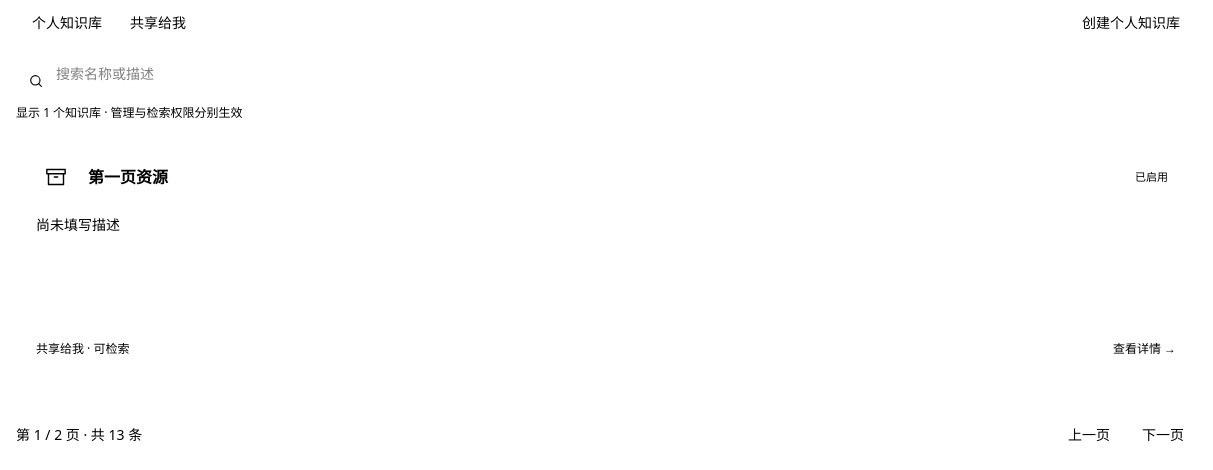
Scenario: knowledge-bases uses server pagination and resets search to page one
The width and height of the screenshot is (1213, 470).
Expected: the heading "第一页资源" is shown, [88,166,168,188]
Expected: the text "第 1 / 2 页 · 共 13 条" is shown, [16,425,142,445]
Step 1. Click the button "下一页" → (1163, 435), box [1130,417,1196,453]
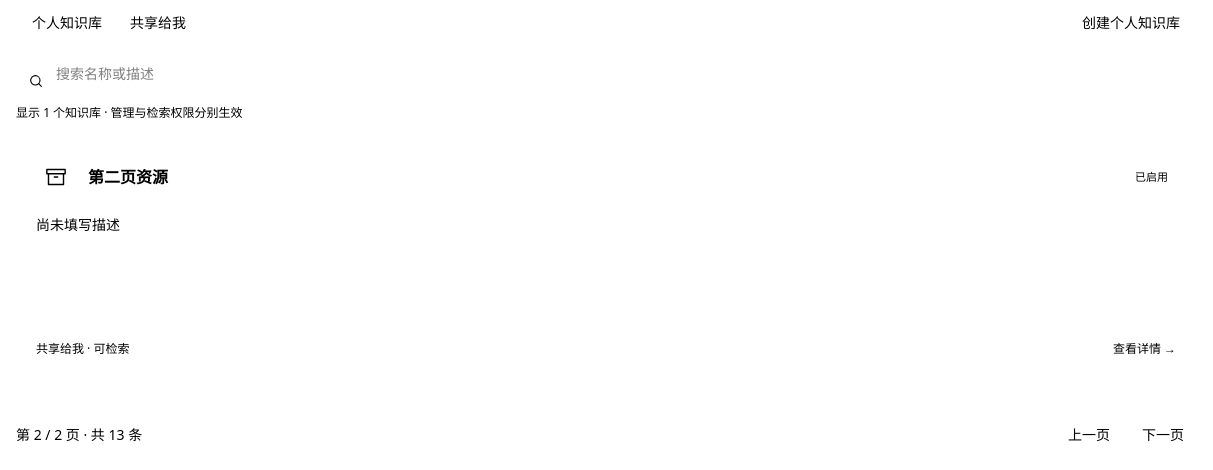
Expected: the heading "第二页资源" is shown, [88,166,168,188]
Step 2. Type "报告" into the field named "搜索知识库" → (606, 74), box [16,64,1196,84]
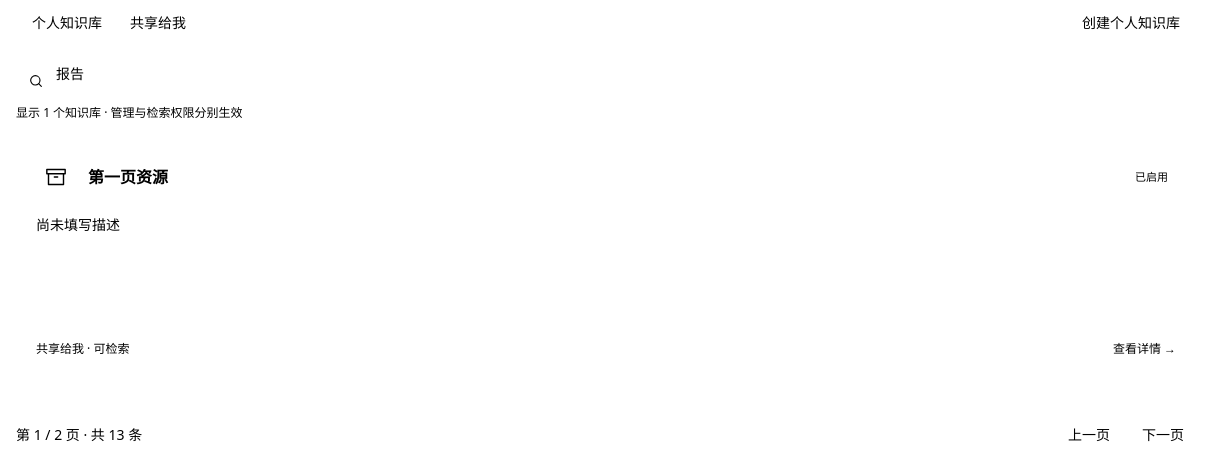
Expected: the heading "第一页资源" is shown, [88,166,168,188]
Step 3. Click the button "下一页" → (1163, 435), box [1130,417,1196,453]
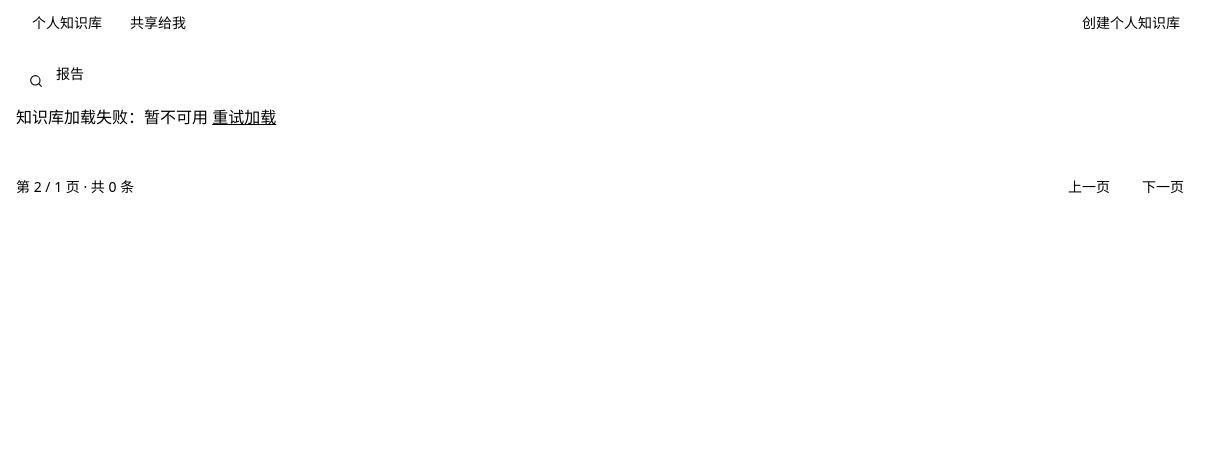
Expected: the message "知识库加载失败：暂不可用 重试加载" is shown, [16,105,276,129]
Step 4. Click the button "重试加载" → (244, 117), box [212,105,276,129]
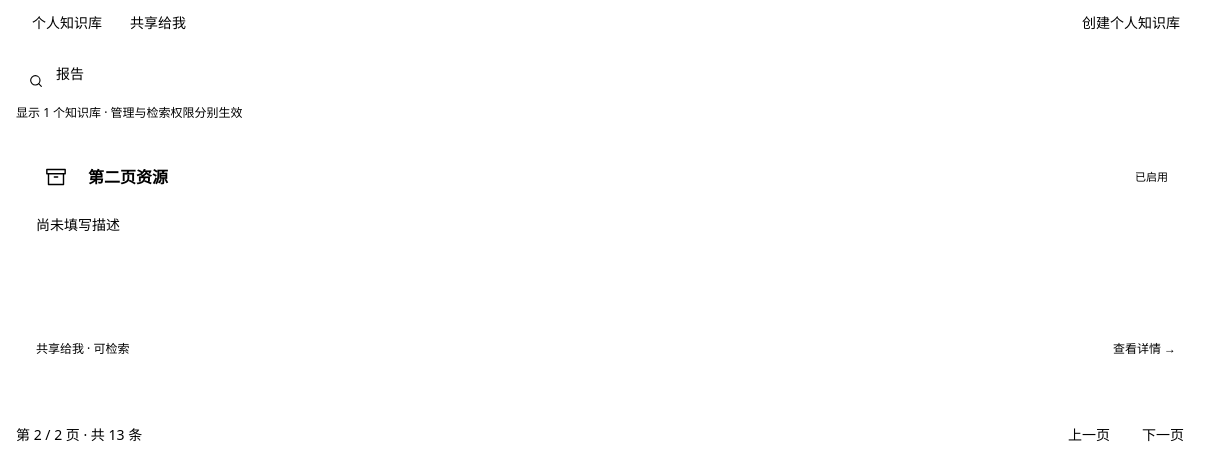
Expected: the heading "第二页资源" is shown, [88,166,168,188]
